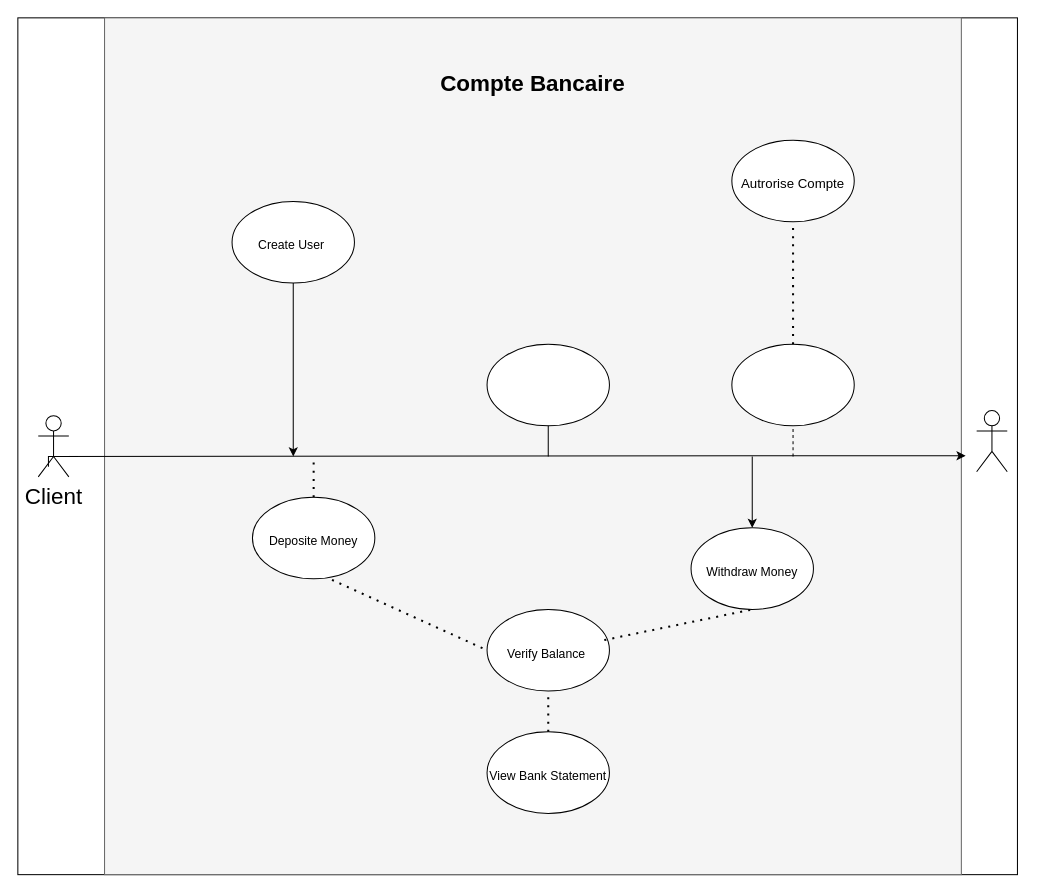
Image size: 1041x893. Some labels were removed from this diagram. The shapes that lost their labels are listed below. From the top down, each one's box as (x1, y1, x2, y2) in pixels, then its label:
(486, 343, 609, 426): view Compte
(731, 343, 854, 426): Create compte
(976, 410, 1007, 472): Admin
